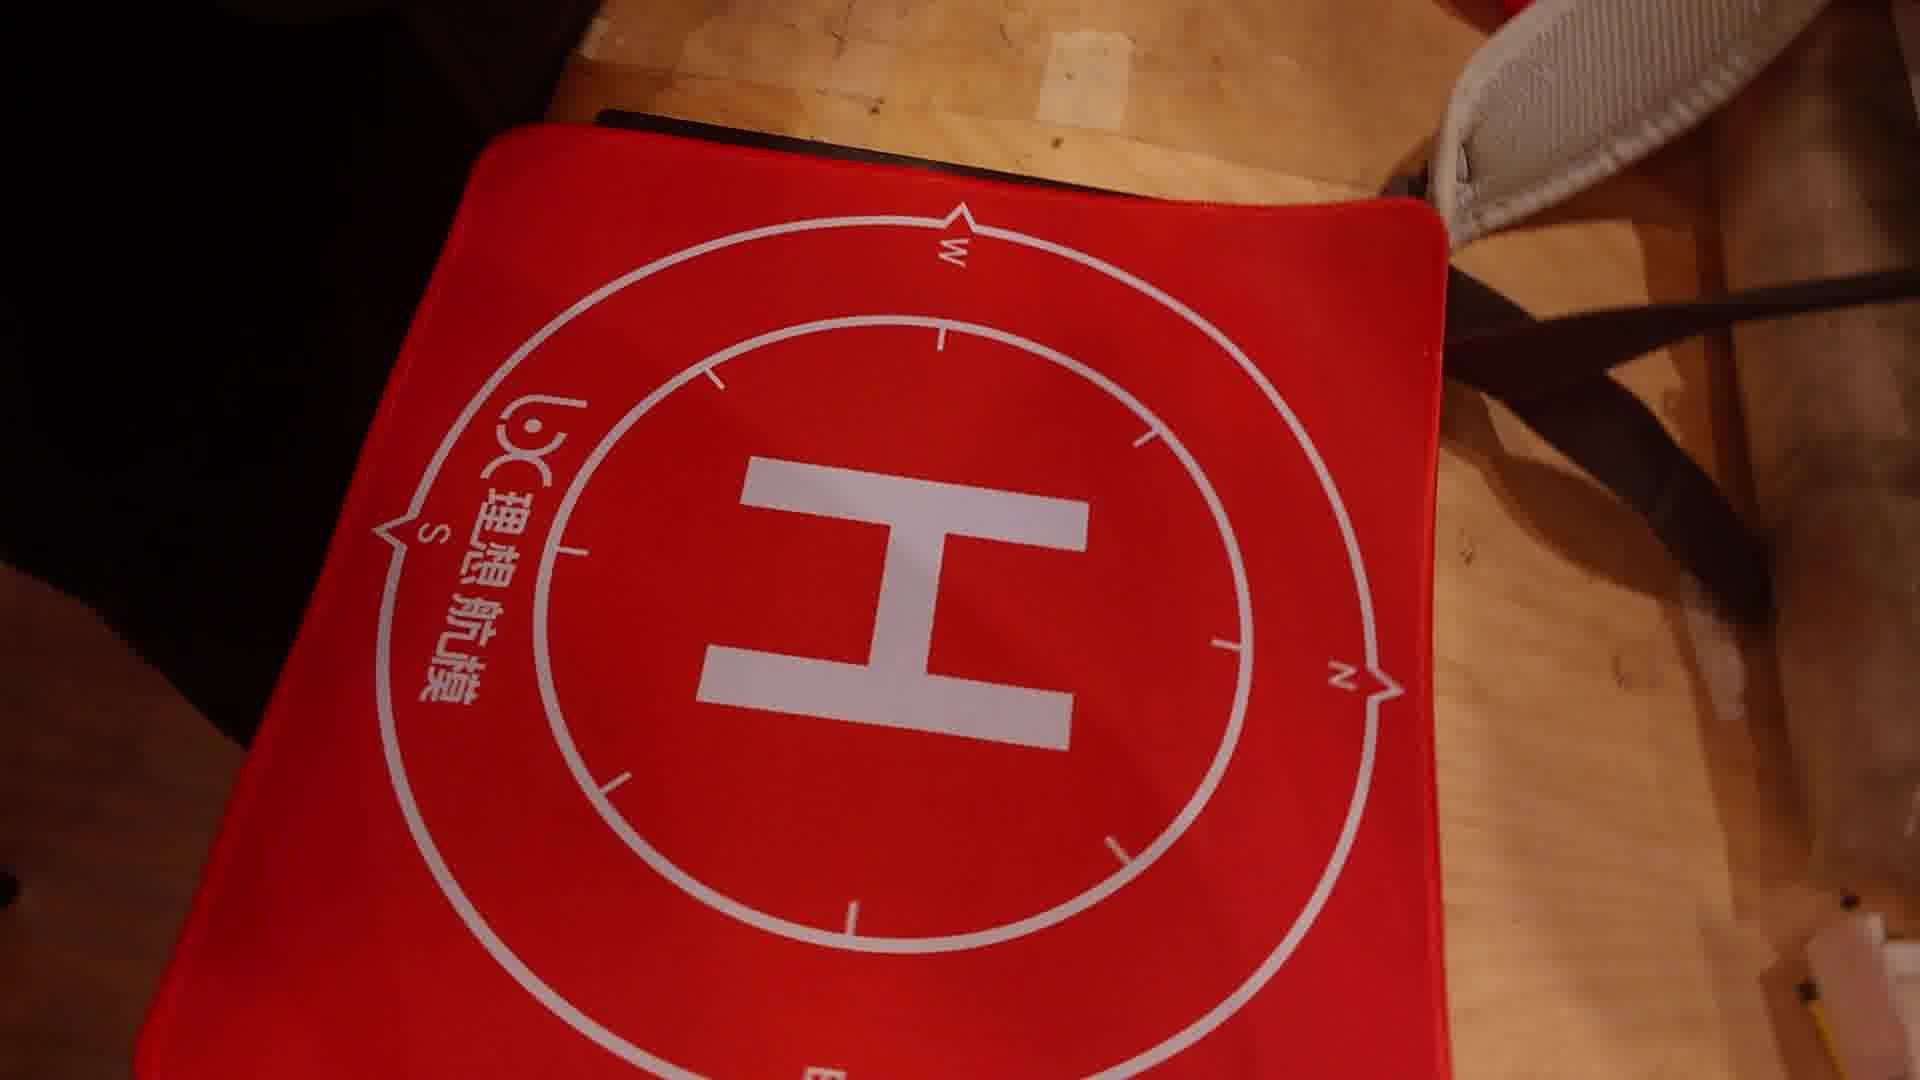H: (694, 454, 1087, 753)
